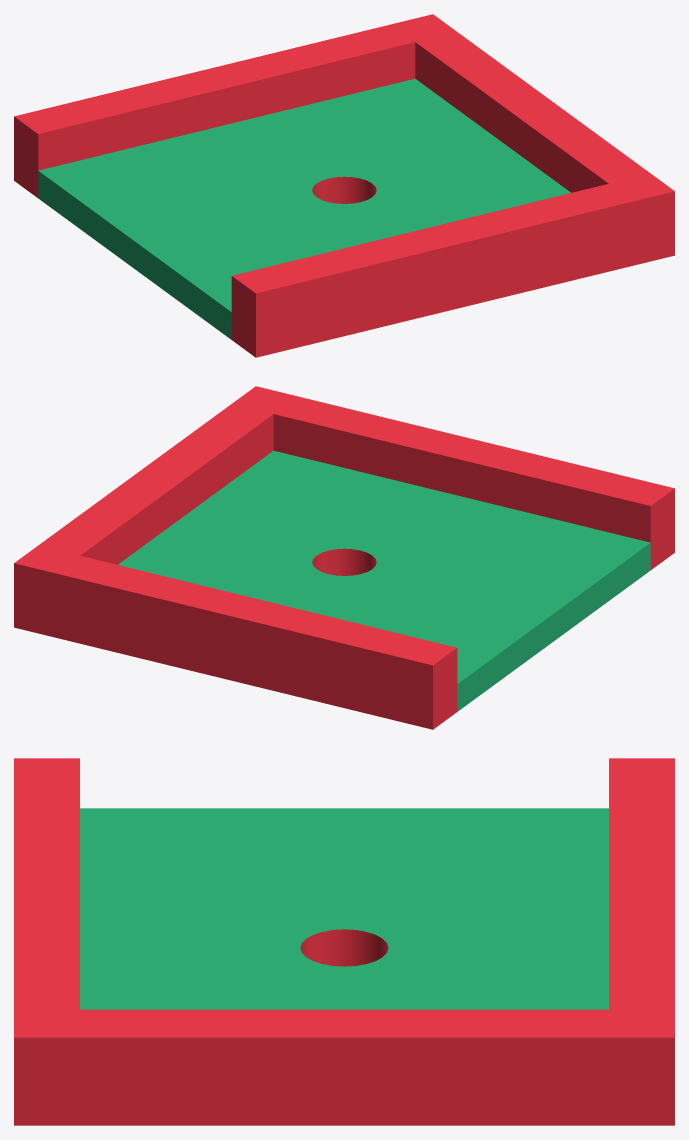
Rendered from holeSquare.obj.
3 views of the same model, one above another, from view 1: azimuth 30°, elevation 25°; view 2: azimuth 150°, elevation 25°; view 3: azimuth 270°, elevation 25° (orthographic). The views are drawn at different scales.
Parts seen in each view (by area): view 1: holeSquare; view 2: holeSquare; view 3: holeSquare.
Boxes of the visible parts, box(x1,y1,x2,y2) form: holeSquare: box(14, 14, 674, 357); holeSquare: box(14, 386, 674, 729); holeSquare: box(14, 758, 674, 1125).
Bounding box in the file's own units: 0.9999 × 0.1481 × 0.9999.
